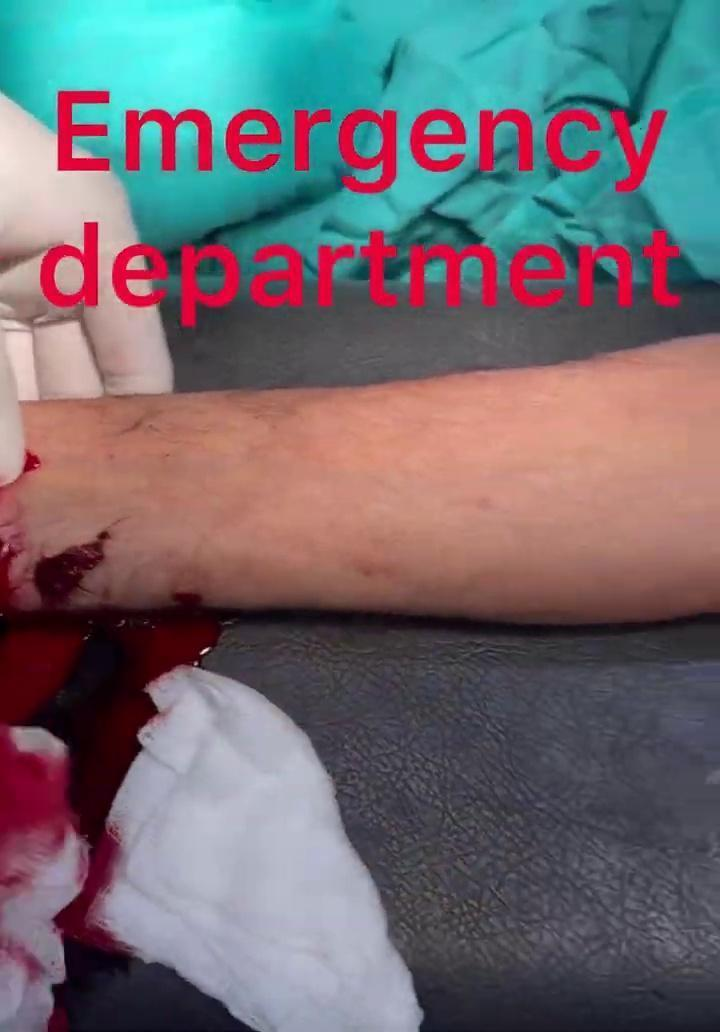Fire: (0, 451, 252, 1032)
